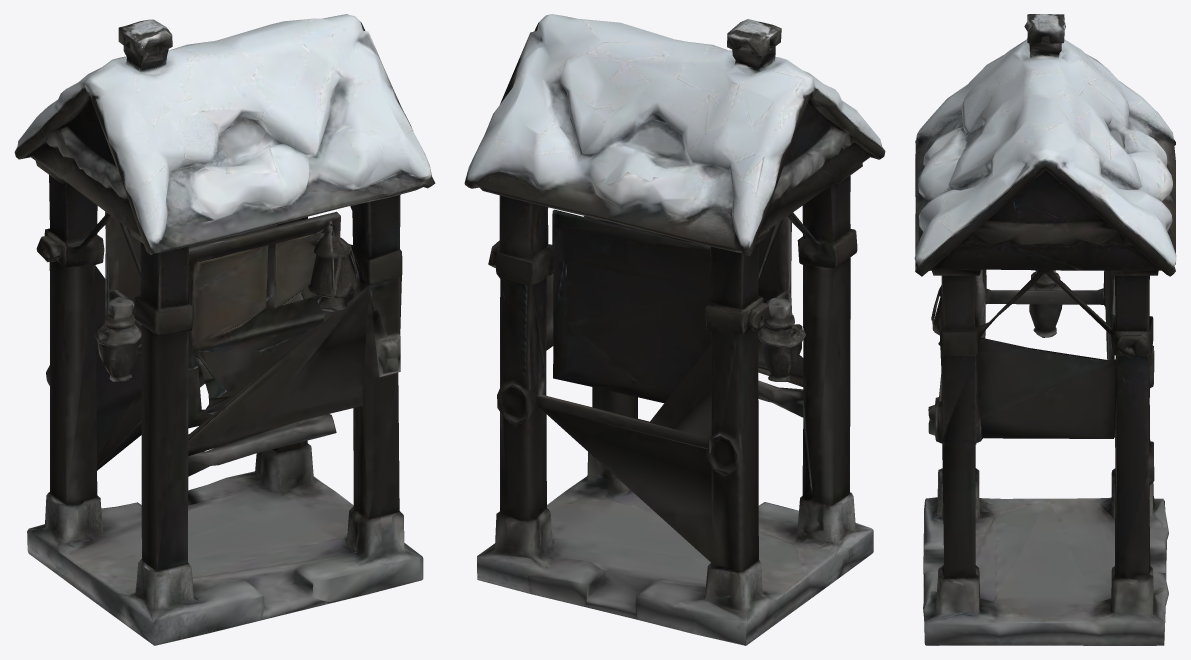
File: board.glb
3 views of the same model, side by side, from view 1: azimuth 30°, elevation 25°; view 2: azimuth 150°, elevation 25°; view 3: azimuth 270°, elevation 25° (orthographic). The views are drawn at different scales.
Size of the model in its own units: 1.01 by 1.9 by 0.848.
1 material, 1 textured.
